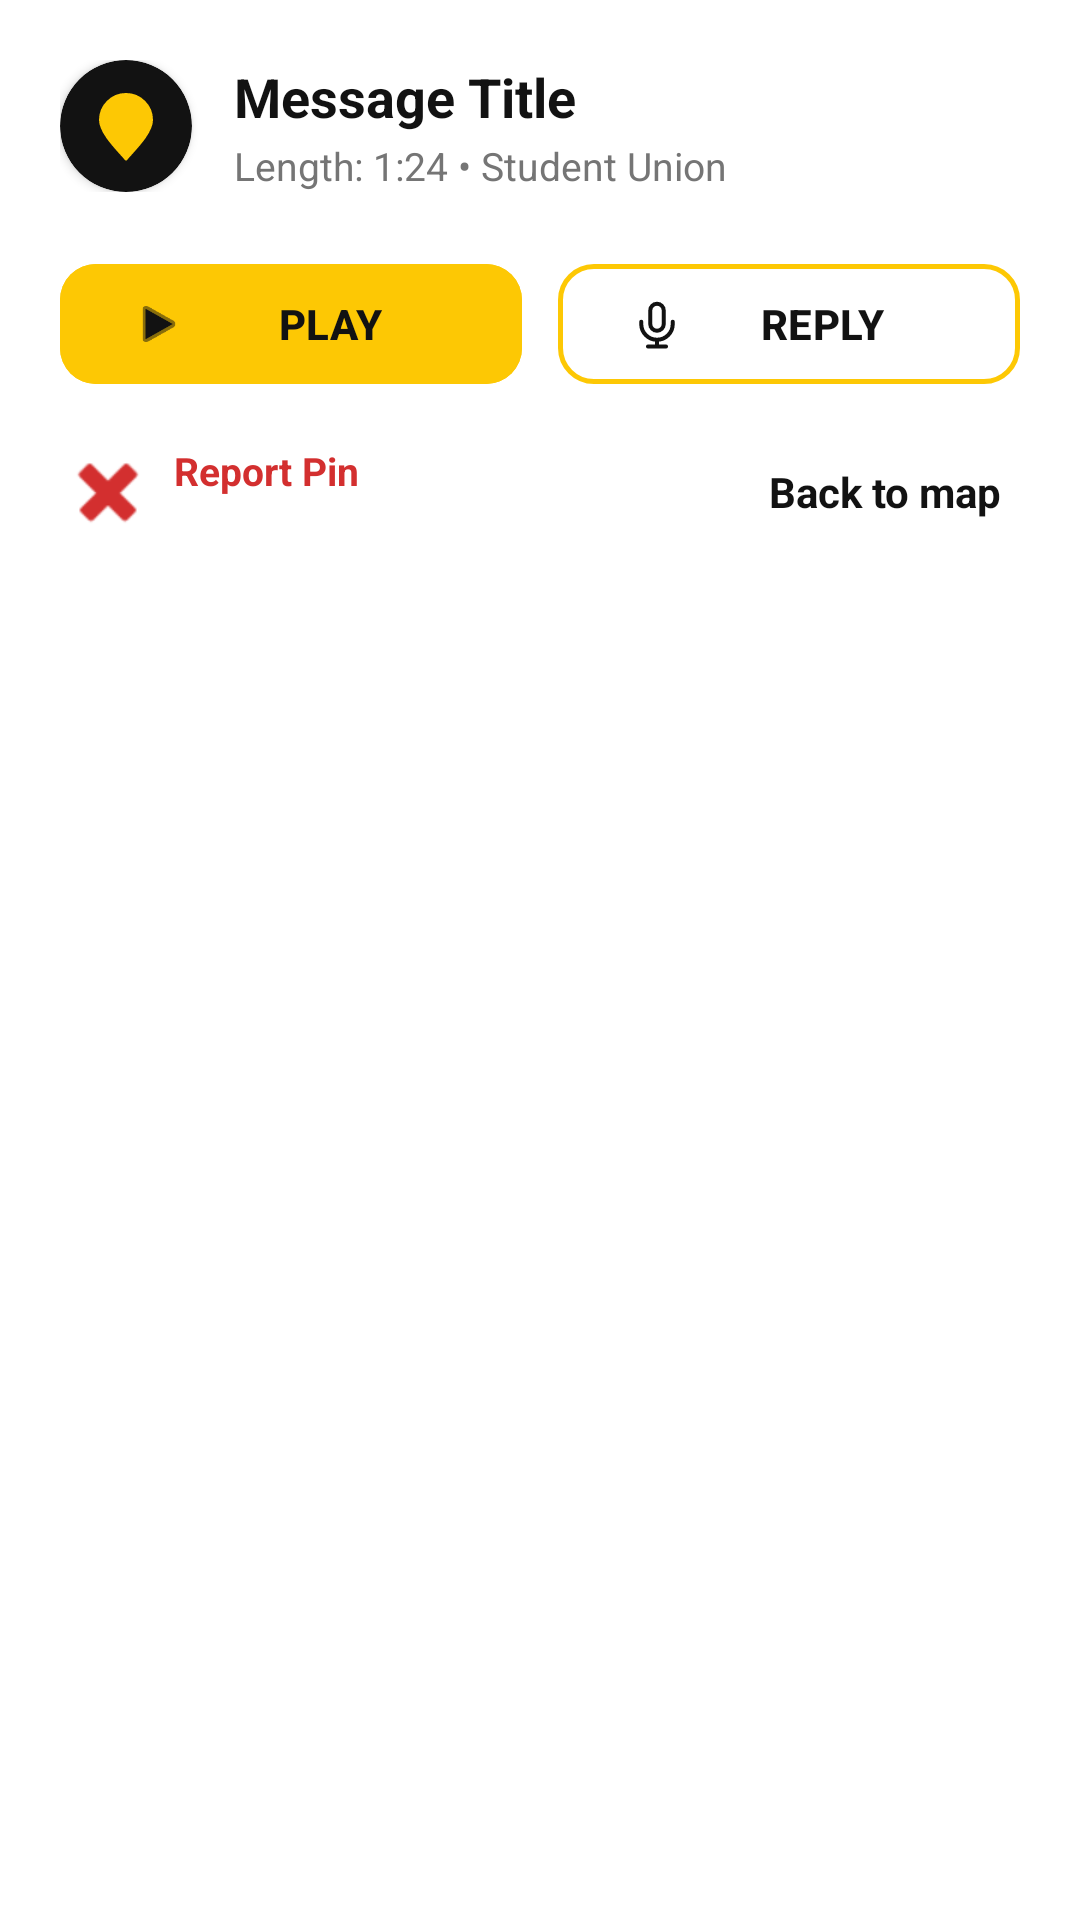

Icon click points for this 1080px×1920px phone screenshot, format (x=x, y=y):
Voice Pin: (x=126, y=126)
